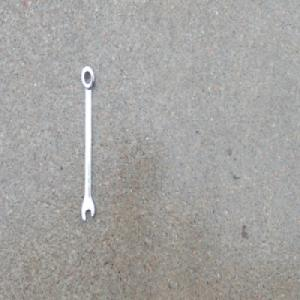Wrench: (80, 63, 96, 222)
